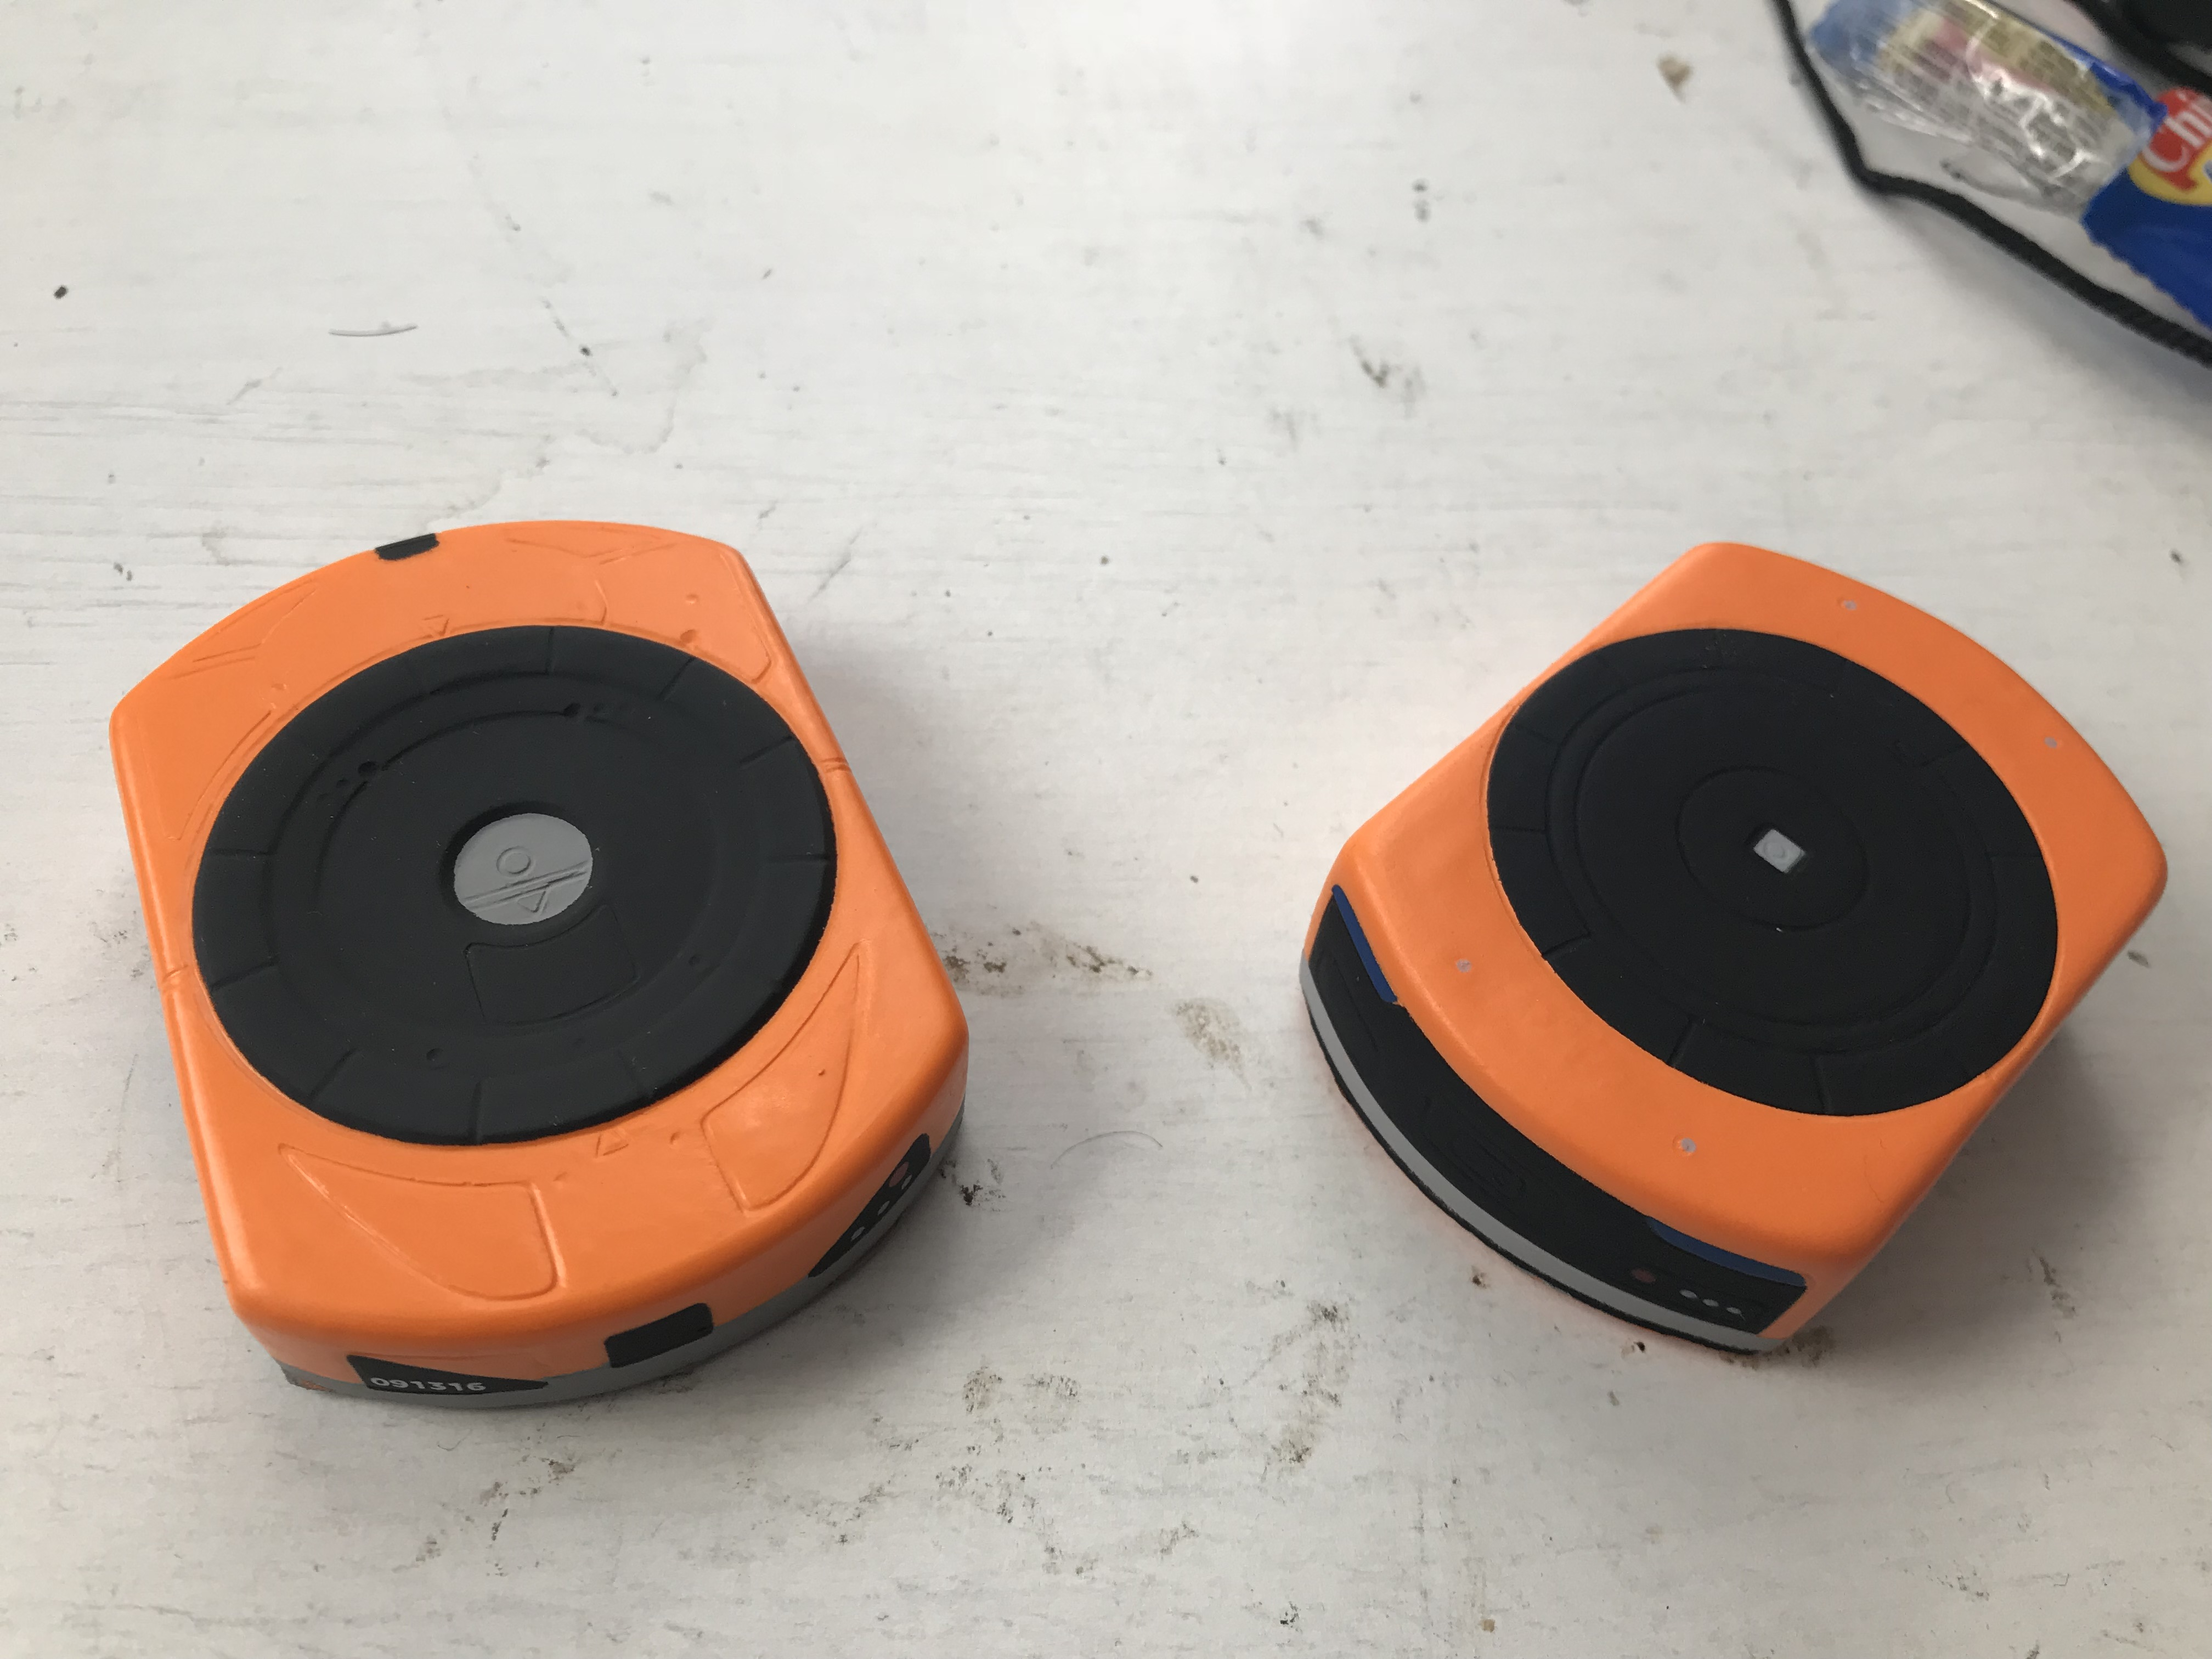amazon_bot: (78, 502, 1042, 1432), (1294, 511, 2182, 1425)
